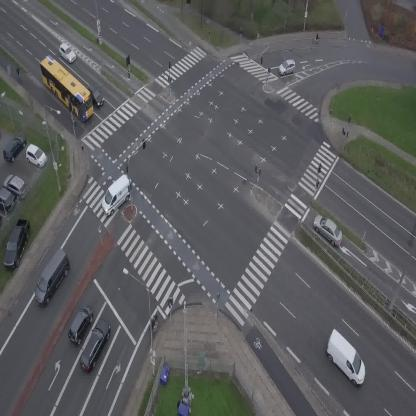bicycle: (146, 313, 159, 331), (13, 66, 24, 82), (312, 32, 321, 43)
bus: (32, 52, 102, 123)
car: (75, 316, 116, 375), (63, 302, 98, 347), (308, 210, 348, 249), (55, 41, 78, 65), (85, 83, 106, 109), (277, 58, 298, 77)
lorry: (315, 327, 376, 390), (26, 247, 78, 309), (93, 173, 139, 218)
